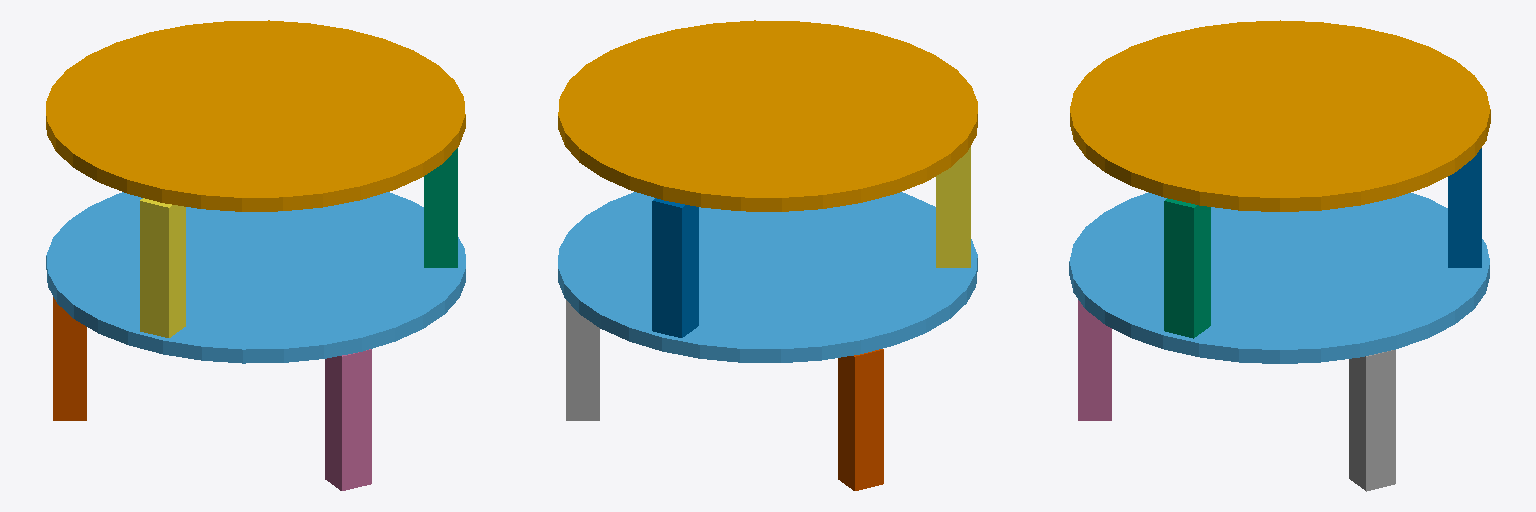
The robot description file, URDF, robot "paucibot":
<?xml version="1.0"?>
<!-- created with Phobos 1.0.1 "Capricious Choutengan" -->
  <robot name="paucibot">

    <gazebo>
      <plugin name="gazebo_ros_control" filename="libgazebo_ros_control.so">
        <robotNamespace>/paucibot</robotNamespace>
      </plugin>
    </gazebo>    

    <link name="BaseLink">
      <inertial>
        <origin xyz="0 0 -0.00275" rpy="0 0 0"/>
        <mass value="0.07"/>
        <inertia ixx="0.0001" ixy="0" ixz="0" iyy="0.0001" iyz="0" izz="0.0002"/>
      </inertial>
      <visual name="lower_disc">
        <origin xyz="0 0 0" rpy="0 0 0"/>
        <geometry>
          <mesh filename="package://paucibot_description/meshes/stl/Circle.004.stl" scale="0.075 0.075 0.06329"/>
        </geometry>
      </visual>
      <collision name="lower_disc">
        <origin xyz="0 0 -0.00275" rpy="0 0 0"/>
        <geometry>
          <cylinder radius="0.075" length="0.0055"/>
        </geometry>
      </collision>
    </link>

    <gazebo reference="BaseLink">
      <gravity>true</gravity>
      <sensor name="imu_sensor" type="imu">
        <always_on>true</always_on>
        <update_rate>100</update_rate>
        <visualize>true</visualize>
        <topic>/imuReading</topic>
        <plugin filename="libgazebo_ros_imu_sensor.so" name="imu_plugin">
          <topicName>/imuReading</topicName>
          <bodyName>imu_link</bodyName>
          <updateRateHZ>10.0</updateRateHZ>
          <gaussianNoise>0.0</gaussianNoise>
          <xyzOffset>0 0 0</xyzOffset>
          <rpyOffset>0 0 0</rpyOffset>
          <frameName>imu_link</frameName>
          <initialOrientationAsReference>false</initialOrientationAsReference>
        </plugin>
        <pose>0 0 0 0 0 0</pose>
      </sensor>
    </gazebo>

    <link name="Holder1_link">
      <inertial>
        <origin xyz="0 0 0" rpy="0 0 0"/>
        <mass value="0.03"/>
        <inertia ixx="0.001" ixy="0" ixz="0" iyy="0.001" iyz="0" izz="0.001"/>
      </inertial>
      <visual name="Holder2">
        <origin xyz="0 0 0" rpy="0 0 0"/>
        <geometry>
          <mesh filename="package://paucibot_description/meshes/stl/Cube.010.stl" scale="0.95238 0.7619 0.03429"/>
        </geometry>
      </visual>
      <collision name="Holder2">
        <origin xyz="0.00045 0 0.01455" rpy="0 0 0"/>
        <geometry>
          <box size="0.0509 0.04 0.0309"/>
        </geometry>
      </collision>
    </link>

    <link name="Holder2_link">
      <inertial>
        <origin xyz="0 0 0" rpy="0 0 0"/>
        <mass value="0.03"/>
        <inertia ixx="0.001" ixy="0" ixz="0" iyy="0.001" iyz="0" izz="0.001"/>
      </inertial>
      <visual name="Holder1">
        <origin xyz="0 0 0" rpy="0 0 0"/>
        <geometry>
          <mesh filename="package://paucibot_description/meshes/stl/Cube.009.stl" scale="0.95238 0.7619 0.03429"/>
        </geometry>
      </visual>
      <collision name="Holder1">
        <origin xyz="0.00045 0 0.01455" rpy="0 0 0"/>
        <geometry>
          <box size="0.0509 0.04 0.0309"/>
        </geometry>
      </collision>
    </link>

    <link name="Motor1_link">
      <inertial>
        <origin xyz="0 0 -0.02034" rpy="0 0 0"/>
        <mass value="0.225"/>
        <inertia ixx="7e-05" ixy="0" ixz="0" iyy="3e-05" iyz="0" izz="2e-05"/>
      </inertial>
      <visual name="Motor1">
        <origin xyz="0 0 0" rpy="0 0 0"/>
        <geometry>
          <mesh filename="package://paucibot_description/meshes/stl/Cylinder.stl" scale="1.0 1.0 1.0"/>
        </geometry>
      </visual>
      <collision name="Motor1">
        <origin xyz="0 0 -0.02034" rpy="0 0 0"/>
        <geometry>
          <cylinder radius="0.018" length="0.06216"/>
        </geometry>
      </collision>
    </link>

    <link name="Motor2_link">
      <inertial>
        <origin xyz="0 0 -0.02027" rpy="0 0 0"/>
        <mass value="0.225"/>
        <inertia ixx="7e-05" ixy="0" ixz="0" iyy="3e-05" iyz="0" izz="2e-05"/>
      </inertial>
      <visual name="Motor2">
        <origin xyz="0 0 0" rpy="0 0 0"/>
        <geometry>
          <mesh filename="package://paucibot_description/meshes/stl/Cylinder.001.stl" scale="1.0 1.0 1.0"/>
        </geometry>
      </visual>
      <collision name="Motor2">
        <origin xyz="0 0 -0.02027" rpy="0 0 0"/>
        <geometry>
          <cylinder radius="0.018" length="0.06262"/>
        </geometry>
      </collision>
    </link>

    <link name="Pillar1_link">
      <inertial>
        <origin xyz="0 0 0" rpy="0 0 0"/>
        <mass value="0.001"/>
        <inertia ixx="2e-05" ixy="0" ixz="0" iyy="2e-05" iyz="0" izz="2e-05"/>
      </inertial>
      <visual name="Pillar1">
        <origin xyz="0 0.00474 0.00025" rpy="0 0 0"/>
        <geometry>
          <box size="0.0122 0.0122 0.053"/>
        </geometry>
      </visual>
      <collision name="Pillar1">
        <origin xyz="0 0.00474 0.00025" rpy="0 0 0"/>
        <geometry>
          <box size="0.0122 0.0122 0.053"/>
        </geometry>
      </collision>
    </link>

    <link name="Pillar2_link">
      <inertial>
        <origin xyz="0 0 0" rpy="0 0 0"/>
        <mass value="0.001"/>
        <inertia ixx="2e-05" ixy="0" ixz="0" iyy="2e-05" iyz="0" izz="2e-05"/>
      </inertial>
      <visual name="Pillar2">
        <origin xyz="0 0.00475 0.00025" rpy="0 0 0"/>
        <geometry>
          <box size="0.0122 0.0122 0.053"/>
        </geometry>
      </visual>
      <collision name="Pillar2">
        <origin xyz="0 0.00475 0.00025" rpy="0 0 0"/>
        <geometry>
          <box size="0.0122 0.0122 0.053"/>
        </geometry>
      </collision>
    </link>

    <link name="Pillar3_link">
      <inertial>
        <origin xyz="0 0 0" rpy="0 0 0"/>
        <mass value="0.001"/>
        <inertia ixx="2e-05" ixy="0" ixz="0" iyy="2e-05" iyz="0" izz="2e-05"/>
      </inertial>
      <visual name="Pillar3">
        <origin xyz="0 0.00474 0.00025" rpy="0 0 0"/>
        <geometry>
          <box size="0.0122 0.0122 0.053"/>
        </geometry>
      </visual>
      <collision name="Pillar3">
        <origin xyz="0 0.00474 0.00025" rpy="0 0 0"/>
        <geometry>
          <box size="0.0122 0.0122 0.053"/>
        </geometry>
      </collision>
    </link>

    <link name="TopDisk">
      <inertial>
        <origin xyz="0 0 -0.00275" rpy="0 0 0"/>
        <mass value="0.07"/>
        <inertia ixx="0.0001" ixy="0" ixz="0" iyy="0.0001" iyz="0" izz="0.0002"/>
      </inertial>
      <visual name="upper_disc.001">
        <origin xyz="0 0 0" rpy="0 0 0"/>
        <geometry>
          <cylinder radius="0.075" length="0.0055"/>
        </geometry>
      </visual>
      <collision name="upper_disc.001">
        <origin xyz="0 0 -0.00275" rpy="0 0 0"/>
        <geometry>
          <cylinder radius="0.075" length="0.0055"/>
        </geometry>
      </collision>
    </link>

    <link name="UpperLink">
      <inertial>
        <origin xyz="0 0 -0.00275" rpy="0 0 0"/>
        <mass value="0.07"/>
        <inertia ixx="0.0001" ixy="0" ixz="0" iyy="0.0001" iyz="0" izz="0.0002"/>
      </inertial>
      <visual name="mid_disc">
        <origin xyz="0.00032 -0.0001 -0.00061" rpy="0 0 -3.14159"/>
        <geometry>
          <cylinder radius="0.075" length="0.0055"/>
        </geometry>
      </visual>
      <collision name="upper_disc">
        <origin xyz="0 0 -0.00275" rpy="0 0 0"/>
        <geometry>
          <cylinder radius="0.075" length="0.0055"/>
        </geometry>
      </collision>
    </link>

    <link name="UpperPillar1">
      <inertial>
        <origin xyz="0 0 0" rpy="0 0 0"/>
        <mass value="0.001"/>
        <inertia ixx="2e-05" ixy="0" ixz="0" iyy="2e-05" iyz="0" izz="2e-05"/>
      </inertial>
      <visual name="Pillar1.001">
        <origin xyz="0 0 0" rpy="0 0 0"/>
        <geometry>
          <box size="0.0122 0.0122 0.053"/>
        </geometry>
      </visual>
      <collision name="Pillar1.001">
        <origin xyz="0 0 0" rpy="0 0 0"/>
        <geometry>
          <box size="0.0122 0.0122 0.053"/>
        </geometry>
      </collision>
    </link>

    <link name="UpperPillar2">
      <inertial>
        <origin xyz="0 0 0" rpy="0 0 0"/>
        <mass value="0.001"/>
        <inertia ixx="4e-05" ixy="0" ixz="0" iyy="4e-05" iyz="0" izz="2e-05"/>
      </inertial>
      <visual name="Pillar2.001">
        <origin xyz="0 0 0" rpy="0 0 0"/>
        <geometry>
          <box size="0.0122 0.0122 0.053"/>
        </geometry>
      </visual>
      <collision name="Pillar3.001">
        <origin xyz="0 0 0" rpy="0 0 0"/>
        <geometry>
          <box size="0.0122 0.0122 0.053"/>
        </geometry>
      </collision>
    </link>

    <link name="UpperPillar3">
      <inertial>
        <origin xyz="0 0 0" rpy="0 0 0"/>
        <mass value="0.001"/>
        <inertia ixx="2e-05" ixy="0" ixz="0" iyy="2e-05" iyz="0" izz="2e-05"/>
      </inertial>
      <visual name="Pillar3.001.000">
        <origin xyz="0 0 0" rpy="0 0 0"/>
        <geometry>
          <box size="0.0122 0.0122 0.053"/>
        </geometry>
      </visual>
      <collision name="Pillar2.001">
        <origin xyz="0 0 0" rpy="0 0 0"/>
        <geometry>
          <box size="0.0122 0.0122 0.053"/>
        </geometry>
      </collision>
    </link>

    <link name="wheel1_link">
      <inertial>
        <origin xyz="0 0 0" rpy="0 0 0"/>
        <mass value="0.13"/>
        <inertia ixx="4e-05" ixy="0" ixz="0" iyy="7e-05" iyz="0" izz="0.00117"/>
      </inertial>
      <visual name="Wheel1">
        <origin xyz="0 0 0" rpy="0 0 0"/>
        <geometry>
          <mesh filename="package://paucibot_description/meshes/stl/Torus.stl" scale="0.81132 0.81132 1.89758"/>
        </geometry>
      </visual>
      <collision name="Wheel1">
        <origin xyz="0 0 0" rpy="0 0 0"/>
        <geometry>
          <cylinder radius="0.043" length="0.03798"/>
        </geometry>
      </collision>
    </link>

    <link name="wheel2_link">
      <inertial>
        <origin xyz="0 0 0" rpy="0 0 0"/>
        <mass value="0.13"/>
        <inertia ixx="4e-05" ixy="0" ixz="0" iyy="7e-05" iyz="0" izz="0.00117"/>
      </inertial>
      <visual name="Wheel2">
        <origin xyz="0 0 0" rpy="0 0 0"/>
        <geometry>
          <mesh filename="package://paucibot_description/meshes/stl/Torus.002.stl" scale="0.81132 0.81132 1.89758"/>
        </geometry>
      </visual>
      <collision name="Wheel2">
        <origin xyz="0 0 0" rpy="0 0 0"/>
        <geometry>
          <cylinder radius="0.043" length="0.03798"/>
        </geometry>
      </collision>
    </link>

    <joint name="Holder1_link" type="fixed">
      <origin xyz="0 0.075 -0.0323" rpy="1.5708 -1.5708 0"/>
      <parent link="BaseLink"/>
      <child link="Holder1_link"/>
    </joint>

    <joint name="Holder2_link" type="fixed">
      <origin xyz="0 -0.075 -0.0323" rpy="-1.5708 -1.5708 0"/>
      <parent link="BaseLink"/>
      <child link="Holder2_link"/>
    </joint>

    <joint name="Motor1_link" type="fixed">
      <origin xyz="0.002 0 0.0138" rpy="0 3.14159 0"/>
      <parent link="Holder1_link"/>
      <child link="Motor1_link"/>
    </joint>

    <joint name="Motor2_link" type="fixed">
      <origin xyz="0.002 0 0.0139" rpy="0 -3.14159 0"/>
      <parent link="Holder2_link"/>
      <child link="Motor2_link"/>
    </joint>

    <joint name="Pillar1_link" type="fixed">
      <origin xyz="-0.06127 0.03537 0.02625" rpy="0 0 -2.0944"/>
      <parent link="BaseLink"/>
      <child link="Pillar1_link"/>
    </joint>

    <joint name="Pillar2_link" type="fixed">
      <origin xyz="0 -0.07075 0.02625" rpy="0 0 0"/>
      <parent link="BaseLink"/>
      <child link="Pillar2_link"/>
    </joint>

    <joint name="Pillar3_link" type="fixed">
      <origin xyz="0.06127 0.03537 0.02625" rpy="0 0 2.0944"/>
      <parent link="BaseLink"/>
      <child link="Pillar3_link"/>
    </joint>

    <joint name="TopDisk" type="fixed">
      <origin xyz="0 0.066 0.032" rpy="0 0 0"/>
      <parent link="UpperPillar3"/>
      <child link="TopDisk"/>
    </joint>

    <joint name="UpperLink" type="fixed">
      <origin xyz="0 0.07075 0.03175" rpy="0 0 0"/>
      <parent link="Pillar2_link"/>
      <child link="UpperLink"/>
    </joint>

    <joint name="UpperPillar1" type="fixed">
      <origin xyz="0.05716 -0.033 0.027" rpy="0 0 1.0472"/>
      <parent link="UpperLink"/>
      <child link="UpperPillar1"/>
    </joint>

    <joint name="UpperPillar2" type="fixed">
      <origin xyz="-0.05716 -0.033 0.027" rpy="0 0 -1.0472"/>
      <parent link="UpperLink"/>
      <child link="UpperPillar2"/>
    </joint>

    <joint name="UpperPillar3" type="fixed">
      <origin xyz="0 0.066 0.027" rpy="0 0 -3.14159"/>
      <parent link="UpperLink"/>
      <child link="UpperPillar3"/>
    </joint>
    <joint name="wheel1_link" type="continuous">
      <origin xyz="-0.005 0 -0.0215" rpy="0 0 -1.5708"/>
      <parent link="Holder1_link"/>
      <child link="wheel1_link"/>
      <axis xyz="0 0 1.0"/>
      <limit effort="0.26" velocity="15.708"/>
    </joint>

    <transmission name="simple_trans1">
      <type>transmission_interface/SimpleTransmission</type>
      <joint name="wheel1_link">
       <hardwareInterface>hardware_interface/EffortJointInterface</hardwareInterface>
      </joint>
      <actuator name="wheel1_motor">
        <mechanicalReducation>50</mechanicalReducation>
        <hardwareInterface>hardware_interface/EffortJointInterface</hardwareInterface>
      </actuator>
    </transmission>

    <joint name="wheel2_link" type="continuous">
      <origin xyz="0.007 0 0.0354" rpy="0 0 1.5708"/>
      <parent link="Motor2_link"/>
      <child link="wheel2_link"/>
      <axis xyz="0 0 1.0"/>
      <limit effort="0.26" velocity="15.708"/>
    </joint>
    
    
    <transmission name="simple_trans2">
      <type>transmission_interface/SimpleTransmission</type>
      <joint name="wheel2_link">
       <hardwareInterface>hardware_interface/EffortJointInterface</hardwareInterface>
      </joint>
      <actuator name="wheel2_motor">
        <mechanicalReducation>50</mechanicalReducation>
        <hardwareInterface>hardware_interface/EffortJointInterface</hardwareInterface>
      </actuator>
    </transmission>

  </robot>

--- Render facts (derived) ---
3 views of the same robot in one strip: view 1: azimuth 30°, elevation 25°; view 2: azimuth 150°, elevation 25°; view 3: azimuth 270°, elevation 25° (orthographic).
Robot: paucibot — 15 links, 14 joints (2 continuous, 12 fixed); root link BaseLink; default pose: every joint at zero.
Visible links, largest first — view 1: TopDisk, UpperLink, Pillar2_link, UpperPillar2, Pillar1_link, UpperPillar1; view 2: TopDisk, UpperLink, UpperPillar3, Pillar1_link, UpperPillar2, Pillar3_link; view 3: TopDisk, UpperLink, Pillar3_link, UpperPillar1, Pillar2_link, UpperPillar3.
Boxes of the visible links, bbox=[...] form: TopDisk: bbox=[46, 20, 465, 211]; UpperLink: bbox=[46, 192, 465, 363]; Pillar2_link: bbox=[325, 349, 371, 490]; UpperPillar2: bbox=[140, 198, 185, 337]; Pillar1_link: bbox=[53, 297, 86, 420]; UpperPillar1: bbox=[424, 148, 457, 267]; TopDisk: bbox=[558, 20, 977, 211]; UpperLink: bbox=[558, 192, 977, 362]; UpperPillar3: bbox=[652, 198, 698, 337]; Pillar1_link: bbox=[838, 349, 883, 490]; UpperPillar2: bbox=[936, 147, 970, 267]; Pillar3_link: bbox=[566, 300, 599, 420]; TopDisk: bbox=[1070, 20, 1490, 211]; UpperLink: bbox=[1069, 192, 1489, 363]; Pillar3_link: bbox=[1349, 350, 1395, 491]; UpperPillar1: bbox=[1164, 198, 1210, 338]; Pillar2_link: bbox=[1078, 300, 1111, 420]; UpperPillar3: bbox=[1448, 148, 1481, 267].
Size in the robot's own frame: 0.1503 by 0.1501 by 0.1198 metres.
Meshes: 7 distinct files referenced, 0 mesh visuals loaded (none loaded); not drawn: 7 (reference not matched to a file when rendering).